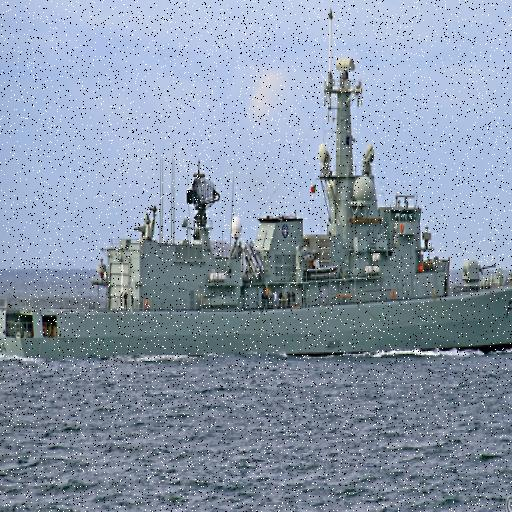Fragata: (1, 7, 512, 358)
